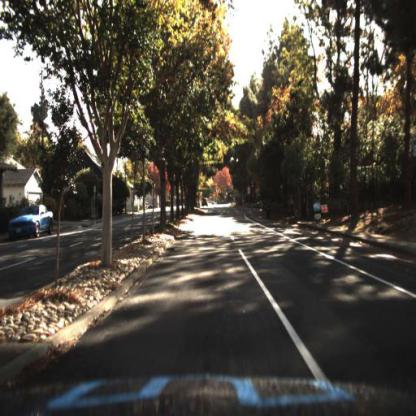car: (5, 203, 55, 241), (7, 202, 56, 240), (201, 193, 210, 209)
